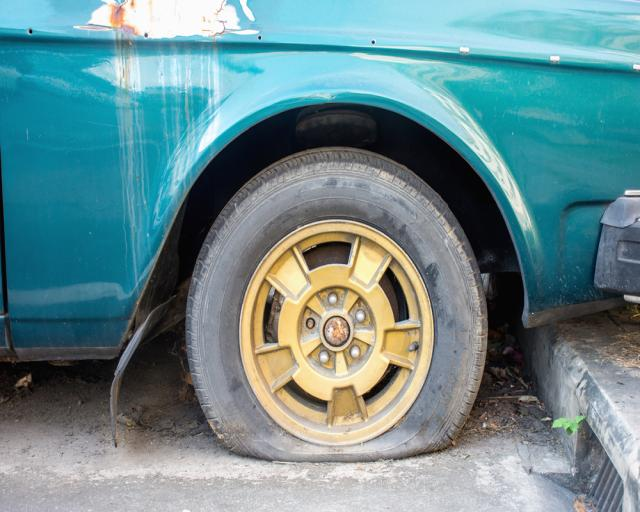tire flat: (189, 142, 486, 462)
